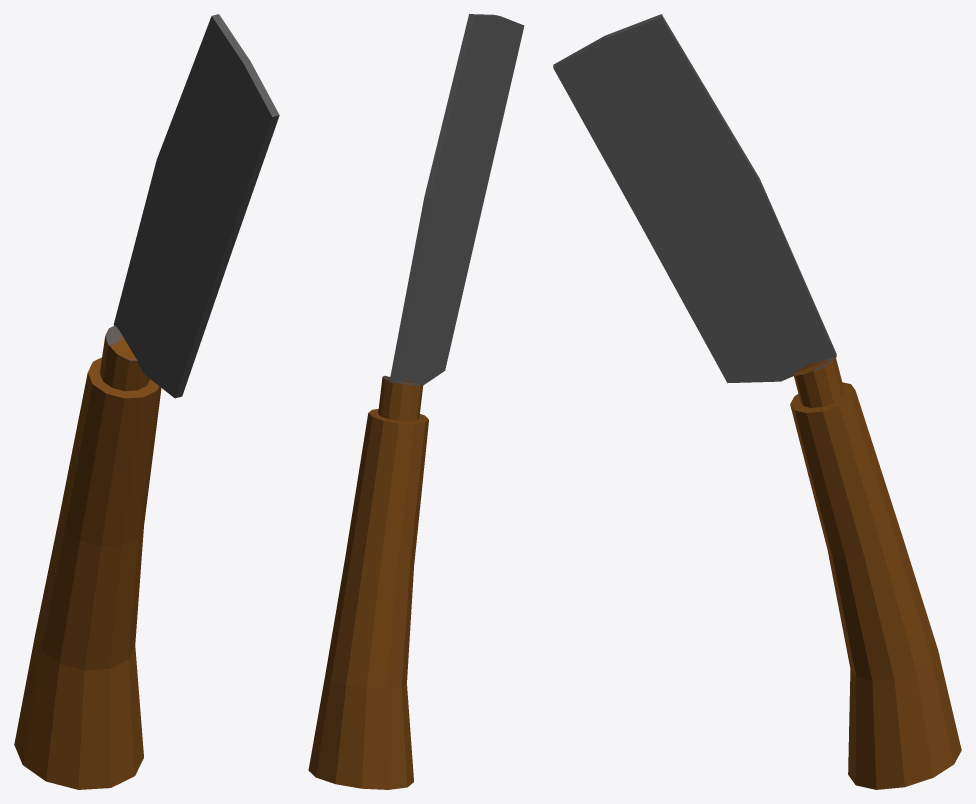
The model's file is Hacha.fbx.
3 renders of one model, left to right at view 1: azimuth 30°, elevation 25°; view 2: azimuth 150°, elevation 25°; view 3: azimuth 270°, elevation 25°, orthographic. The views are drawn at different scales.
Visible parts, largest first — view 1: Hacha; view 2: Hacha; view 3: Hacha.
Part boxes in pixels (x1,y1,x2,y2): Hacha: [14, 14, 279, 789]; Hacha: [308, 14, 524, 789]; Hacha: [553, 14, 961, 789].
Size of the model in its own units: 67.8 by 486 by 237.
Materials: 1 (1 with a texture image).
